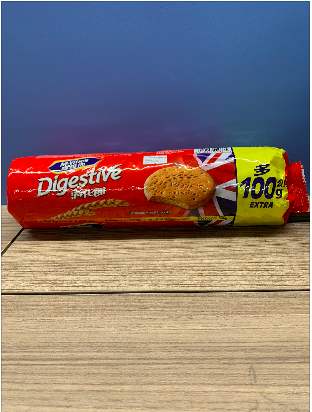Cookies_500-599g: (22, 155, 291, 217)
